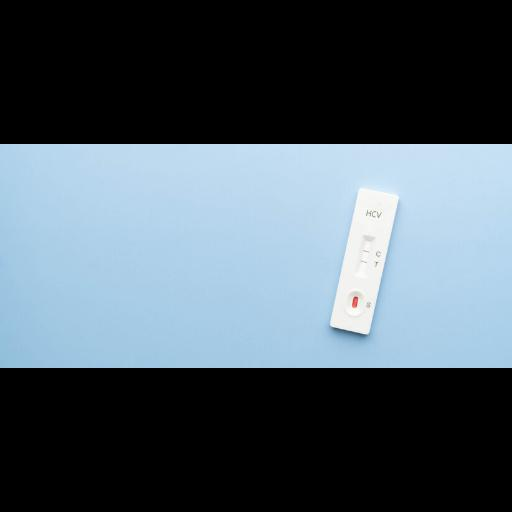Pos: (328, 187, 399, 335)
